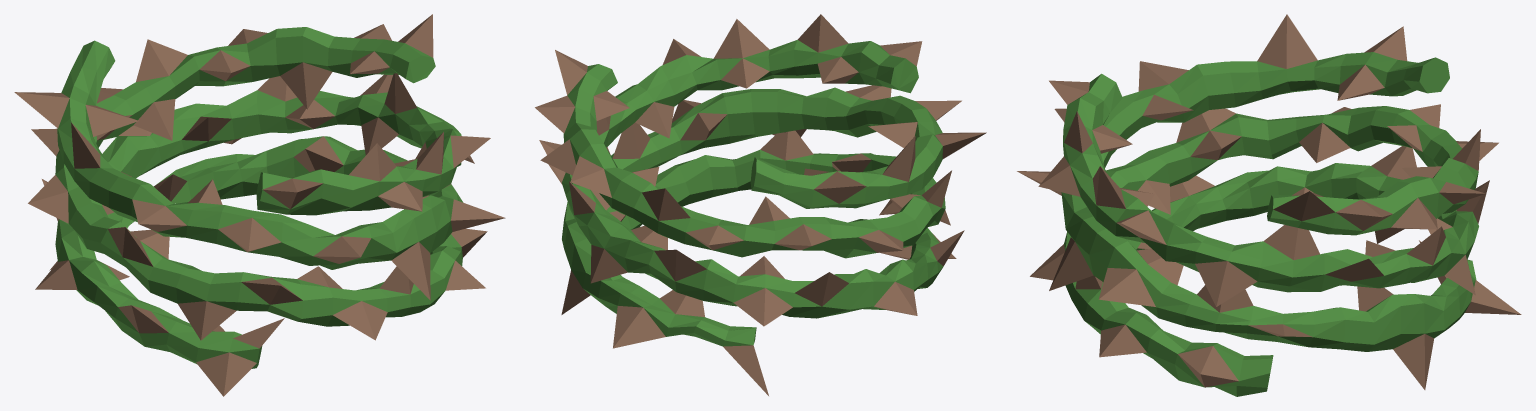
The model's file is Vines.FBX.
The picture shows the model from 3 angles, left to right: view 1: azimuth 30°, elevation 25°; view 2: azimuth 150°, elevation 25°; view 3: azimuth 270°, elevation 25°; orthographic projection. The views are drawn at different scales.
Visible parts, largest first — view 1: Helix001, Helix002, Helix003; view 2: Helix002, Helix003, Helix001; view 3: Helix003, Helix002, Helix001.
Part boxes in pixels (x1,y1,x2,y2): Helix001: [28, 14, 487, 340]; Helix002: [35, 73, 490, 396]; Helix003: [14, 40, 505, 300]; Helix002: [539, 14, 964, 326]; Helix003: [548, 85, 986, 395]; Helix001: [535, 50, 951, 258]; Helix003: [1017, 14, 1521, 389]; Helix002: [1038, 73, 1489, 306]; Helix001: [1030, 104, 1498, 396].
Bounding box in the file's own units: 12.89 × 7.08 × 13.3.
